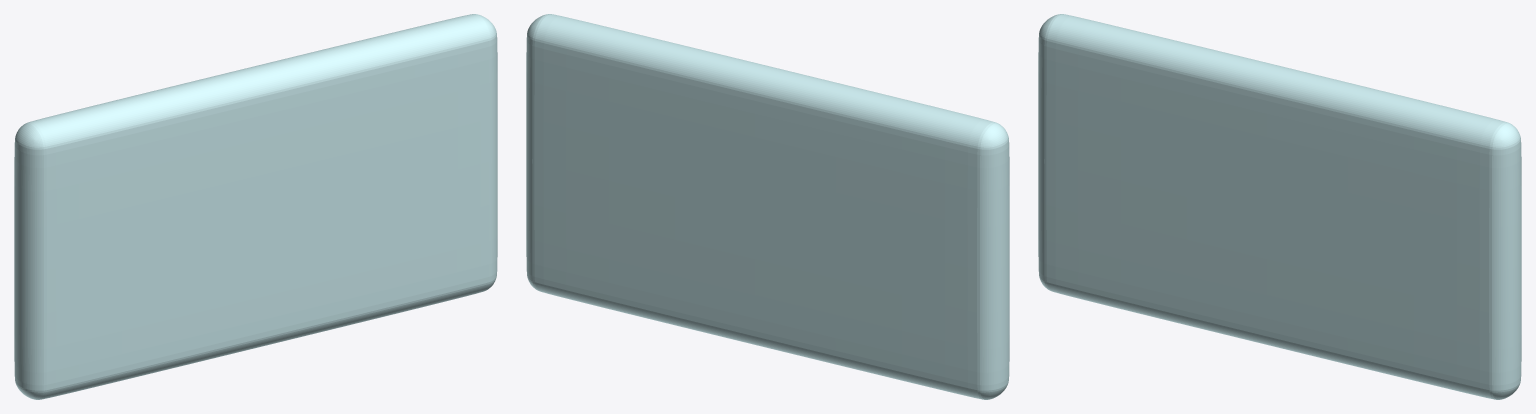
File: glassWall.glb
The picture shows the model from 3 angles, left to right: view 1: azimuth 30°, elevation 25°; view 2: azimuth 150°, elevation 25°; view 3: azimuth 330°, elevation 25°; orthographic projection.
Parts seen in each view (by area): view 1: Cube; view 2: Cube; view 3: Cube.
Part boxes in pixels (x1,y1,x2,y2): Cube: (14, 14, 497, 399); Cube: (526, 14, 1009, 399); Cube: (1038, 14, 1521, 399).
Size of the model in its own units: 10.52 by 5.81 by 0.9692.
